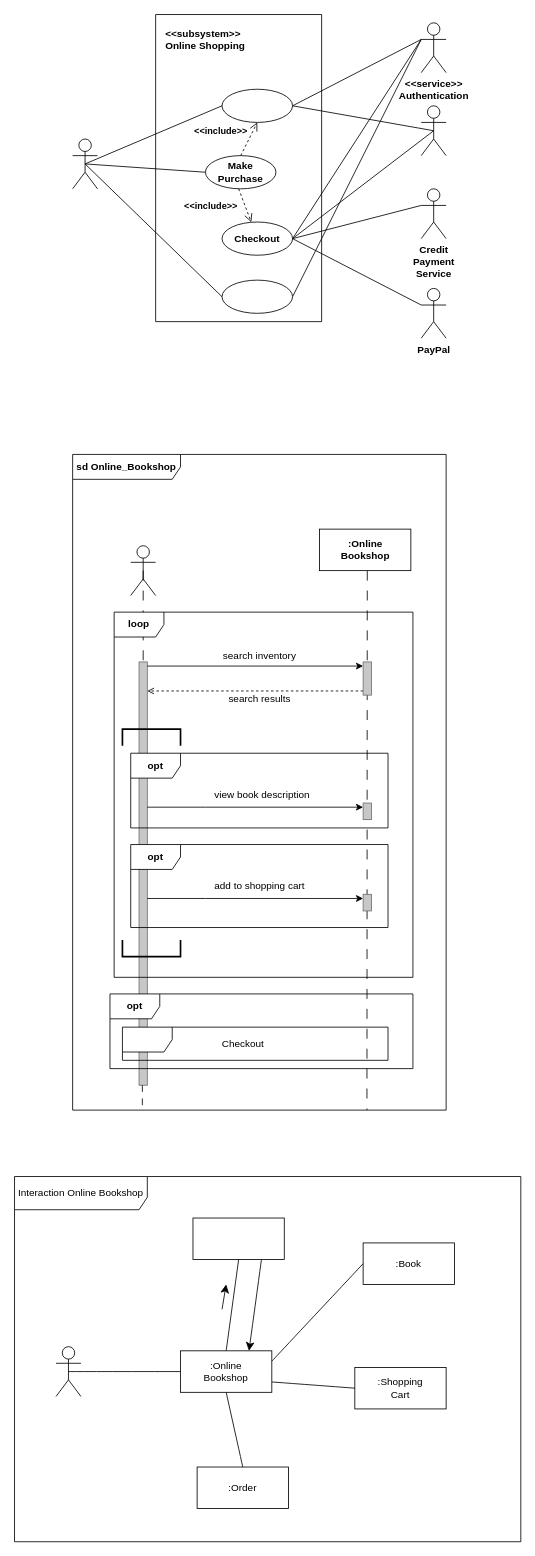
Image size: 535x1556. Some labels were removed from this diagram. The centre of each missing label's shape, as x and y in pixels:
":Inventory" belongs at point (238, 1238).
":Web Customer" belongs at point (143, 570).
"Actor" belongs at point (68, 1371).
"Cilent Register" belongs at point (257, 296).
"Identity Provider" belongs at point (433, 130).
"ref" belongs at point (255, 1043).
"View Items" belongs at point (257, 105).
"Web Customer" belongs at point (85, 163).
